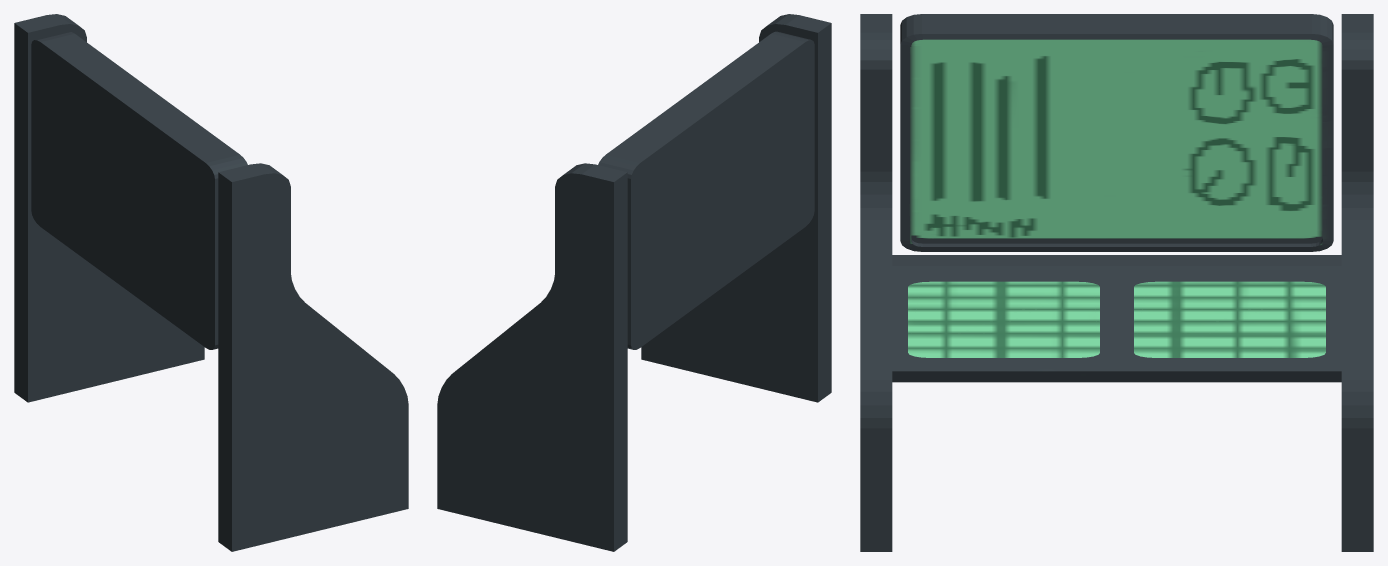
The model's file is Admin-pc1.glb.
The picture shows the model from 3 angles, left to right: view 1: azimuth 30°, elevation 25°; view 2: azimuth 150°, elevation 25°; view 3: azimuth 270°, elevation 25°; orthographic projection. The views are drawn at different scales.
Parts seen in each view (by area): view 1: Cube.003; view 2: Cube.003; view 3: Cube.003.
Part boxes in pixels (x1,y1,x2,y2): Cube.003: (14, 14, 408, 551); Cube.003: (437, 14, 831, 551); Cube.003: (860, 14, 1373, 551).
Size of the model in its own units: 3 by 6 by 6.4.
1 material, 1 textured.
